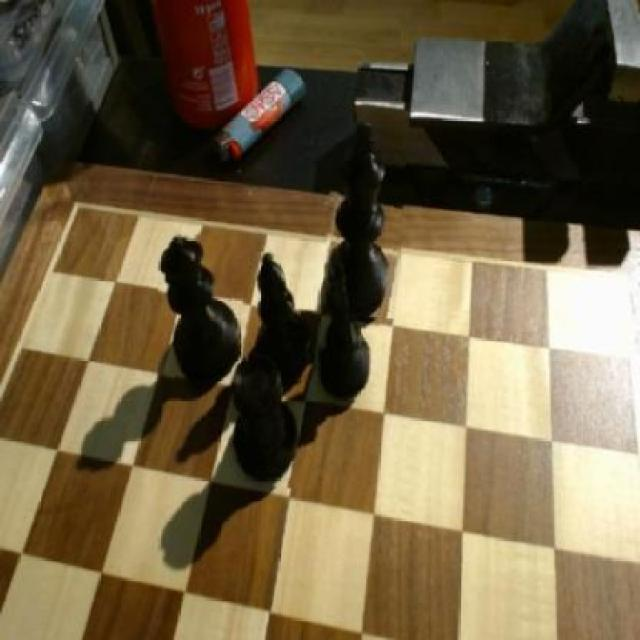bishop: (243, 251, 319, 384)
black-bishop: (324, 122, 406, 318)
black-king: (317, 262, 379, 402)
black-pawn: (158, 234, 248, 380)
black-queen: (228, 354, 304, 487)
